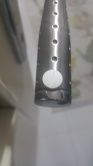Arveles: (41, 69, 64, 91)
